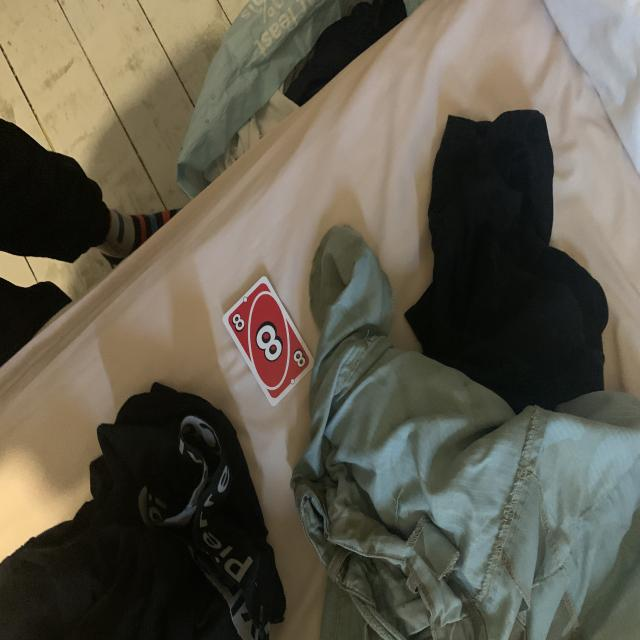lred-8: (230, 309, 246, 333)
